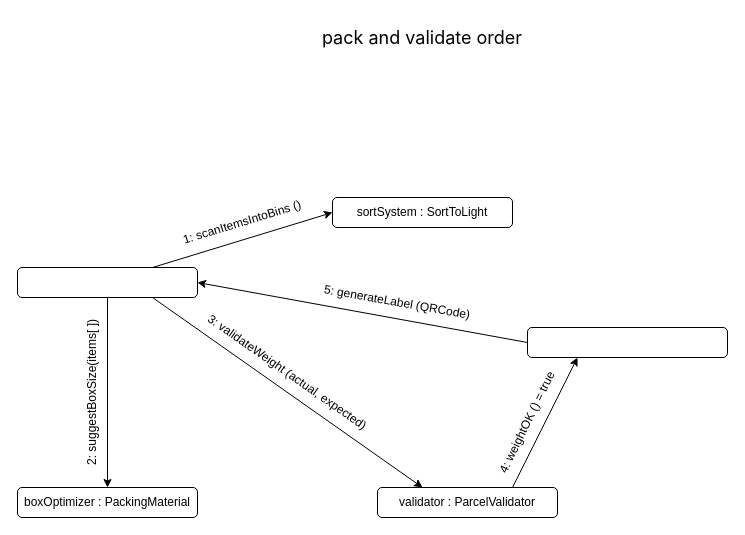
The diagram is 745 pixels wide and 535 high, and some of its shapes have lost their labels. The shapes that lost their labels are listed below. From the top down, each one's centre as x and y in pixels, then its label:
(107,282): packer : Packer
(627,342): labelGeneration : LabelGenerator
